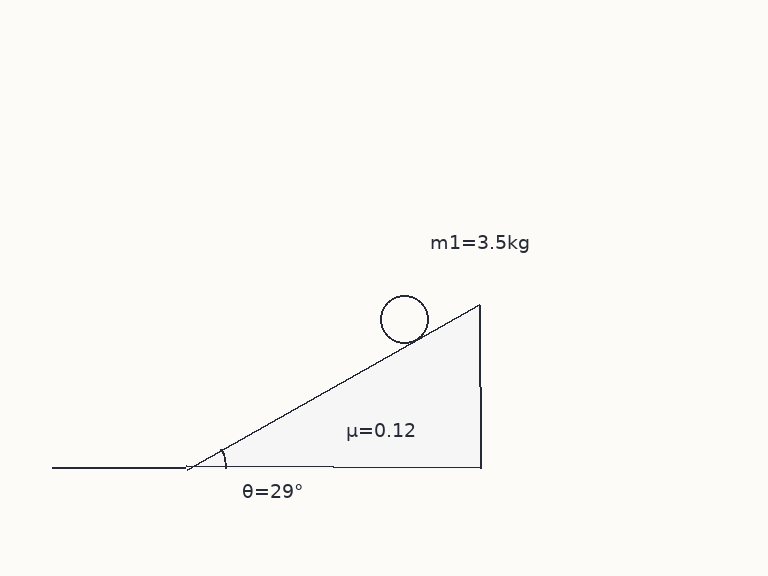ball: (378, 293, 430, 345)
ramp: (184, 303, 482, 470)
